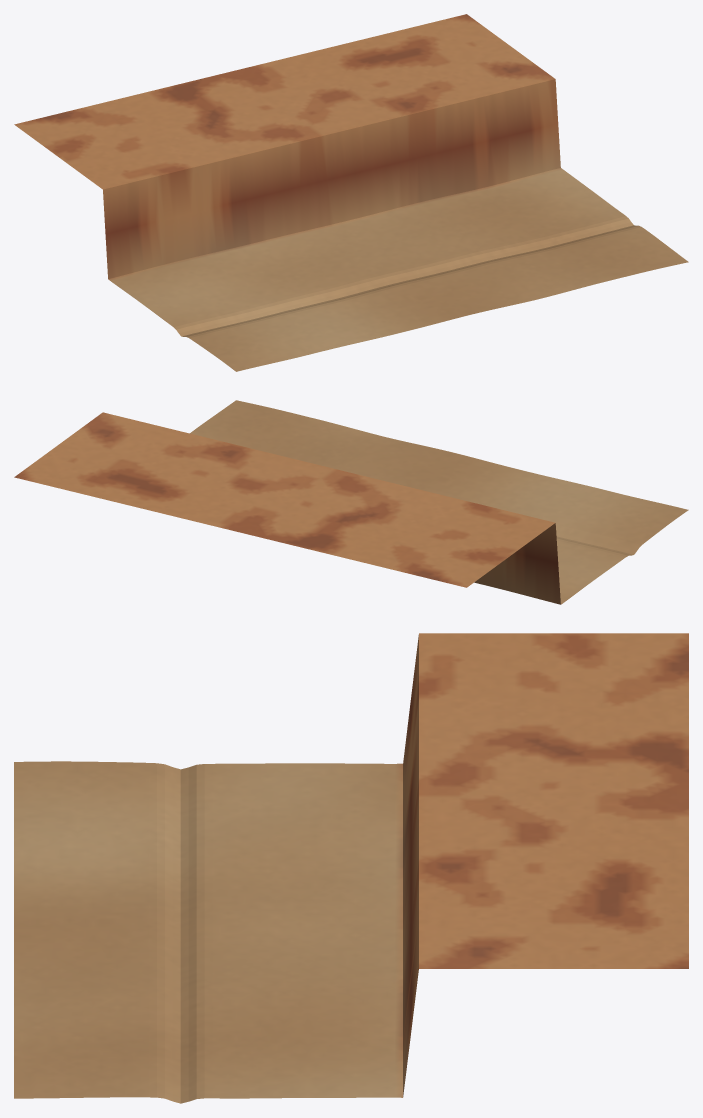
File: terrain.glb
3 views of the same model, one above another, from view 1: azimuth 30°, elevation 25°; view 2: azimuth 150°, elevation 25°; view 3: azimuth 270°, elevation 25° (orthographic). The views are drawn at different scales.
Parts seen in each view (by area): view 1: Terrain; view 2: Terrain; view 3: Terrain.
Boxes of the visible parts, <box> form: Terrain: <box>14,14,688,371</box>; Terrain: <box>14,400,688,604</box>; Terrain: <box>14,633,688,1103</box>.
Bounding box in the file's own units: 200 × 37.92 × 170.
